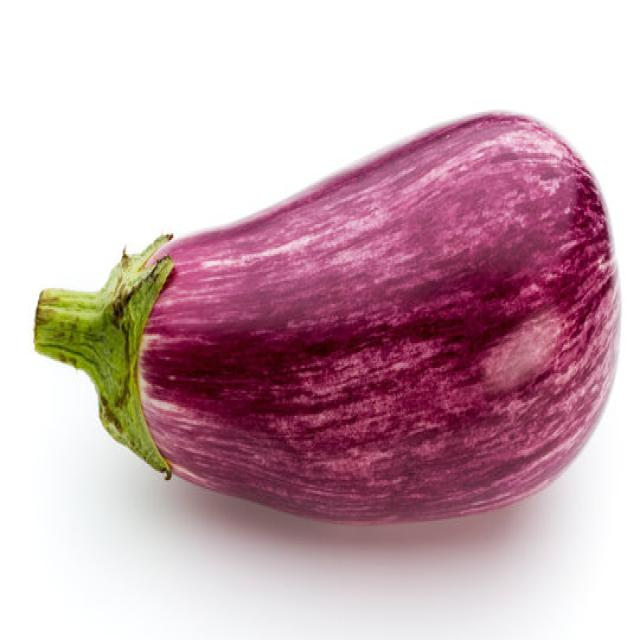Eggplant: (32, 108, 622, 524)
